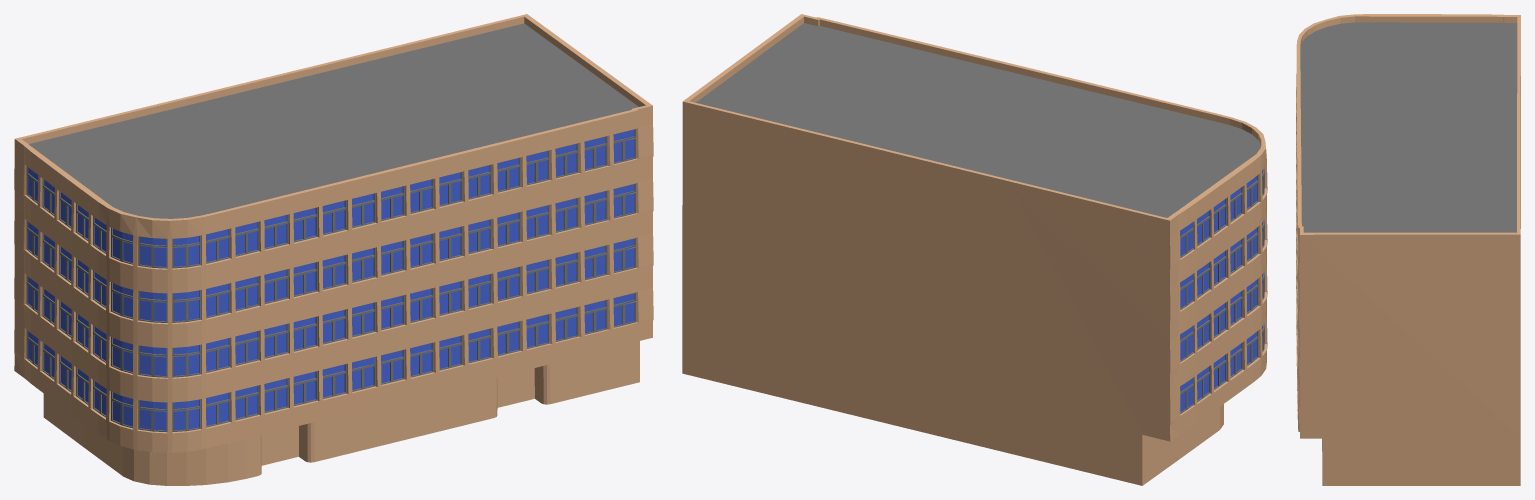
The model's file is batiment arrondi.fbx.
3 views of the same model, side by side, from view 1: azimuth 30°, elevation 25°; view 2: azimuth 150°, elevation 25°; view 3: azimuth 270°, elevation 25° (orthographic). The views are drawn at different scales.
Parts seen in each view (by area): view 1: Cube; view 2: Cube; view 3: Cube.
Boxes of the visible parts, x1,y1,x2,y2 form: Cube: (14, 14, 653, 485); Cube: (682, 14, 1267, 485); Cube: (1296, 14, 1520, 485).
Size of the model in its own units: 12867 by 6812 by 5526.
